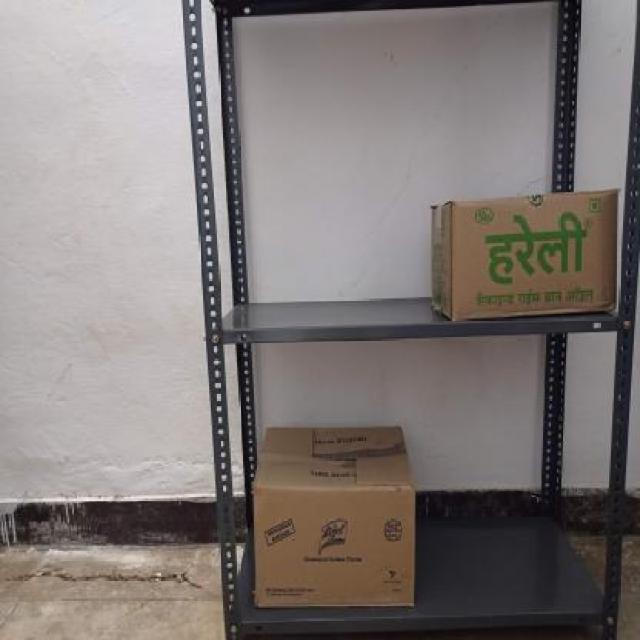box: (250, 486, 416, 608), (451, 196, 617, 316)
